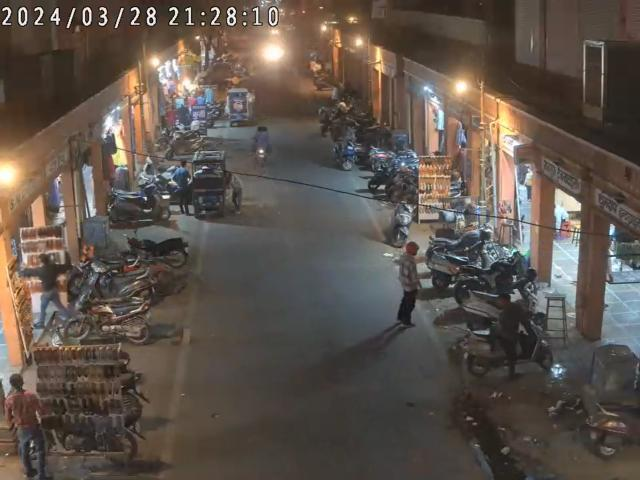auto: (188, 146, 231, 220), (224, 84, 254, 130)
motorbike: (62, 292, 155, 350)
motorbike-rider: (248, 125, 275, 168)
person: (392, 241, 427, 328)
scooty: (452, 307, 550, 383), (388, 196, 412, 248)
